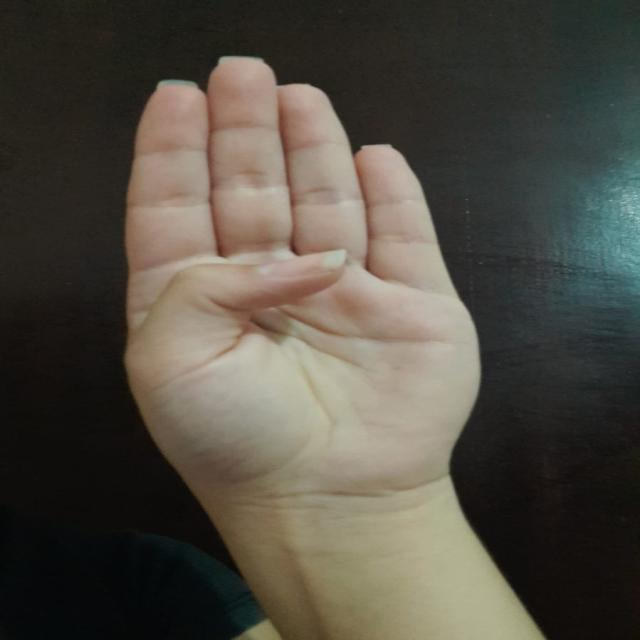B: (103, 56, 502, 490)
